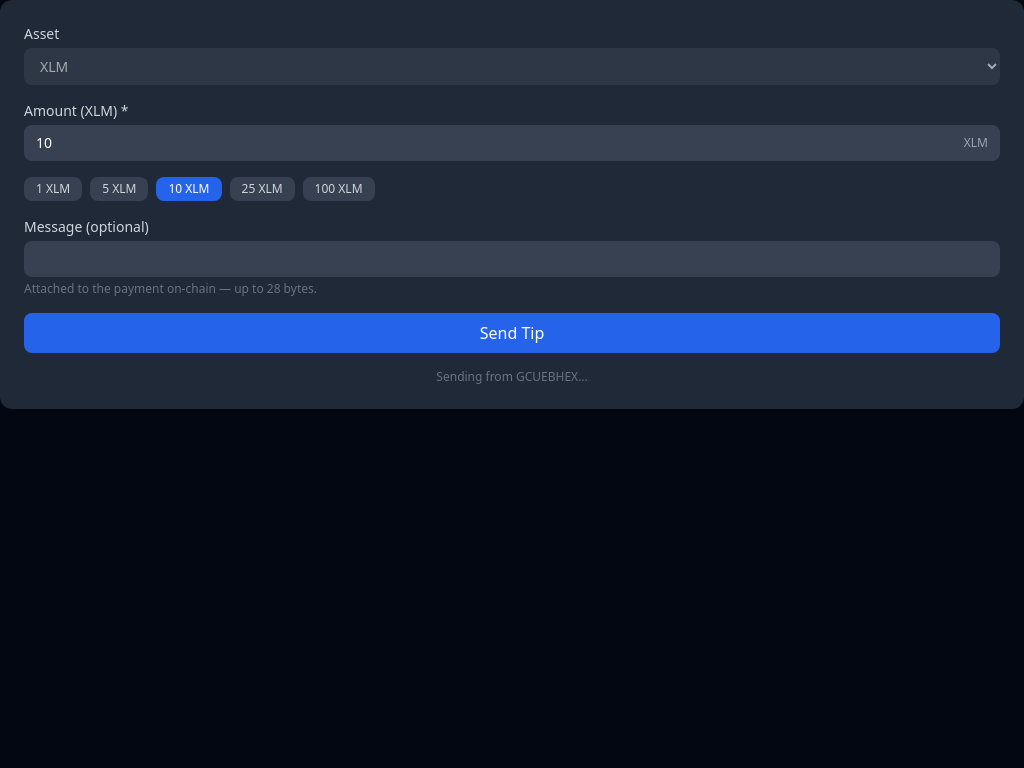
Scenario: TipForm — sending › reports a failure as a toast rather than a crash
Click the button "Send Tip": (512, 333) [24,313,1000,353]
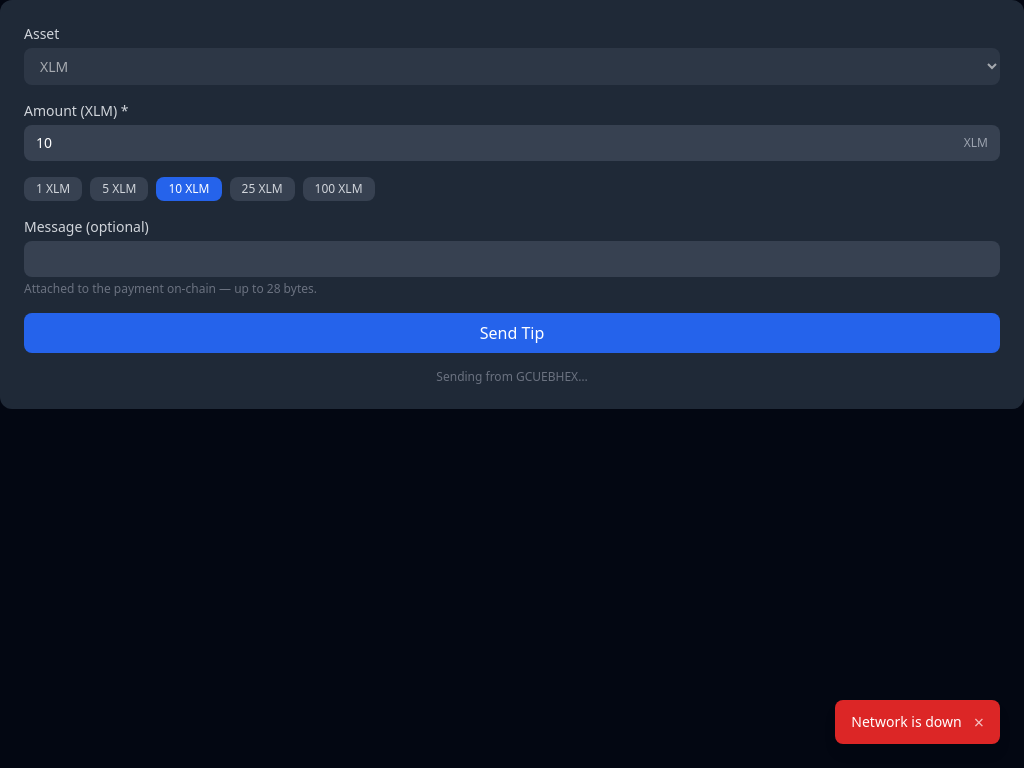
Result: the text "Network is down" is shown at [851,712,962,732]
